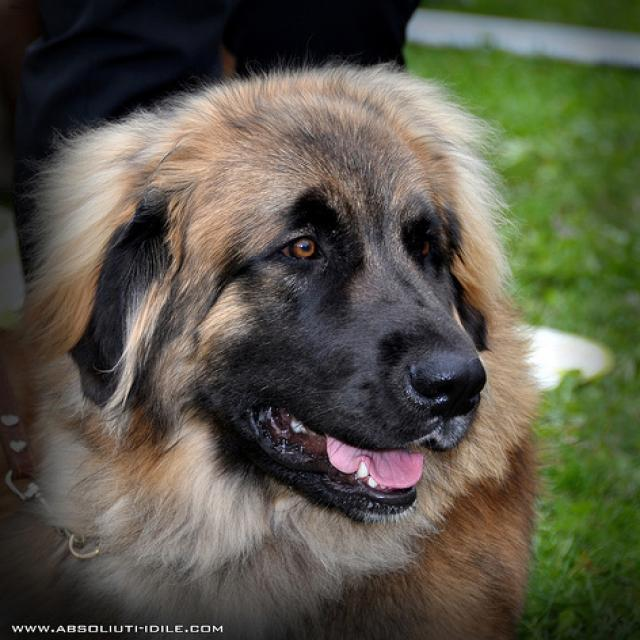dog-leonberger: (1, 50, 551, 637)
